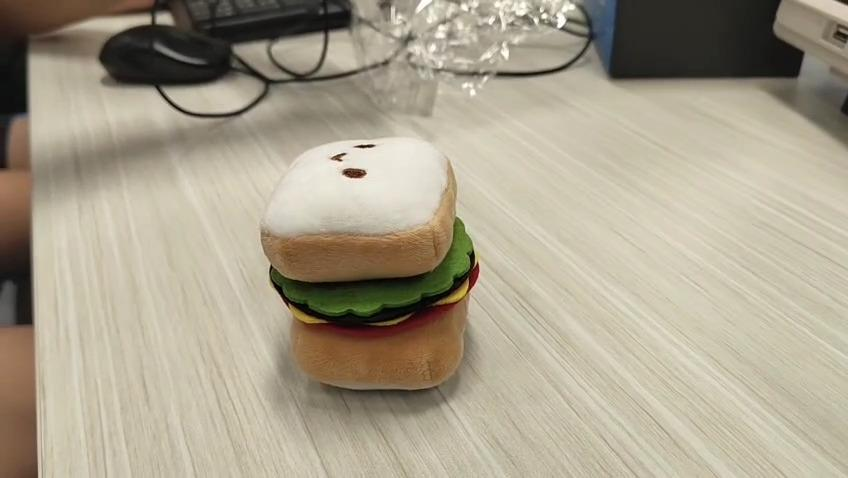objects: (262, 136, 482, 391)
